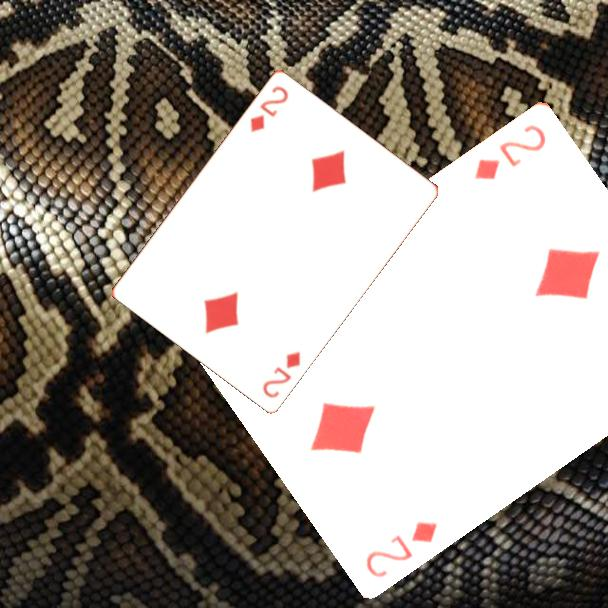d02: (362, 517, 441, 580), (471, 120, 549, 183), (246, 82, 291, 135), (259, 347, 303, 401)
